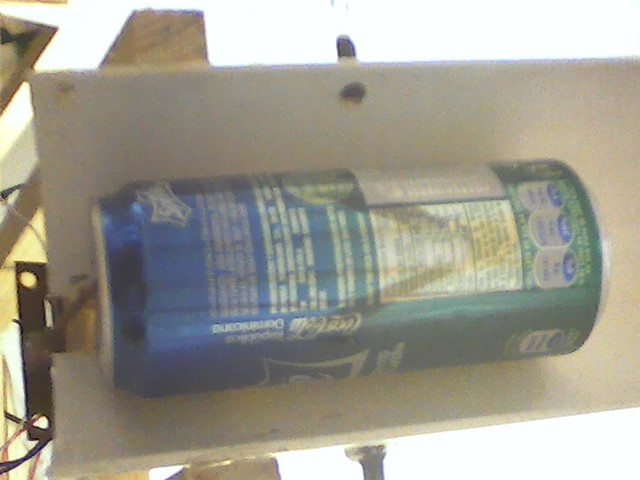lata: (78, 152, 616, 400)
